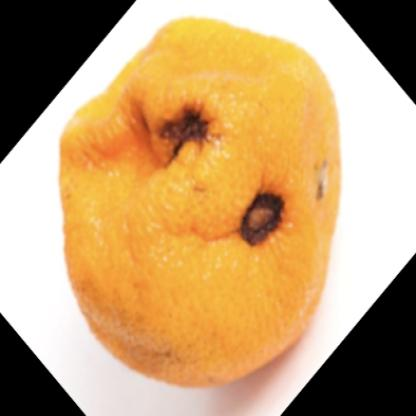rotten: (63, 16, 342, 386)
